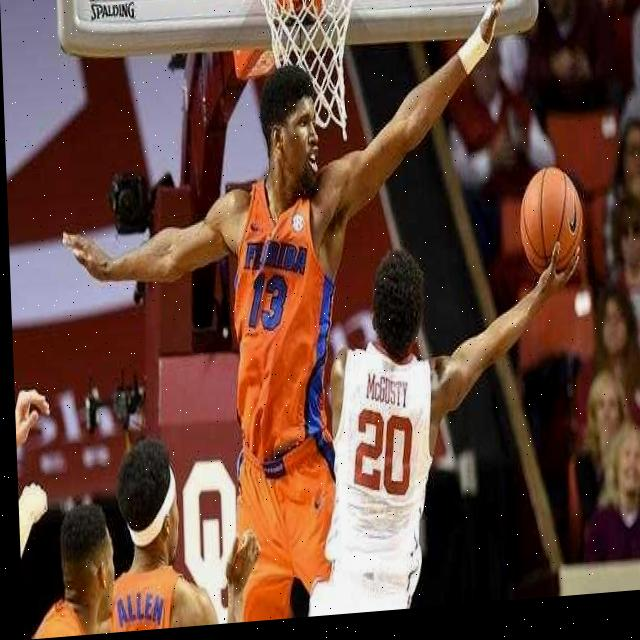basketball: (517, 160, 588, 281)
hoop: (245, 0, 374, 154)
